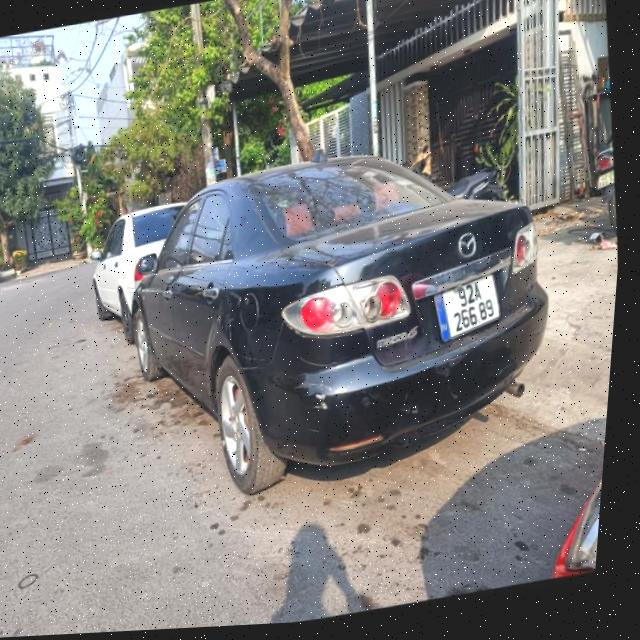car: (75, 114, 580, 519), (0, 233, 6, 295)
plate: (427, 270, 508, 344)
